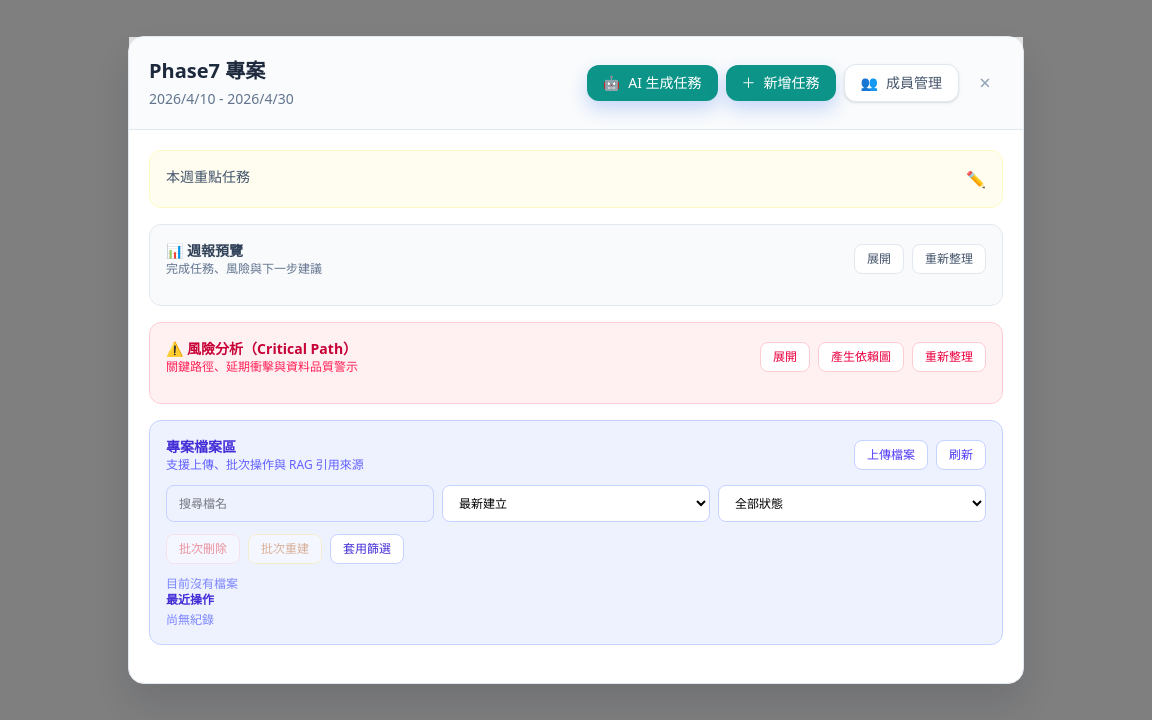
Scenario: TimelineDetailDialog Phase 7.1 › 顯示週報任務與風險列表
What coordinates should you click on to do the following:
click the button "展開" in the row of "完成任務、風險與下一步建議"
I would click on:
 (879, 259)
Its box is top-left (854, 244), bottom-right (904, 274).
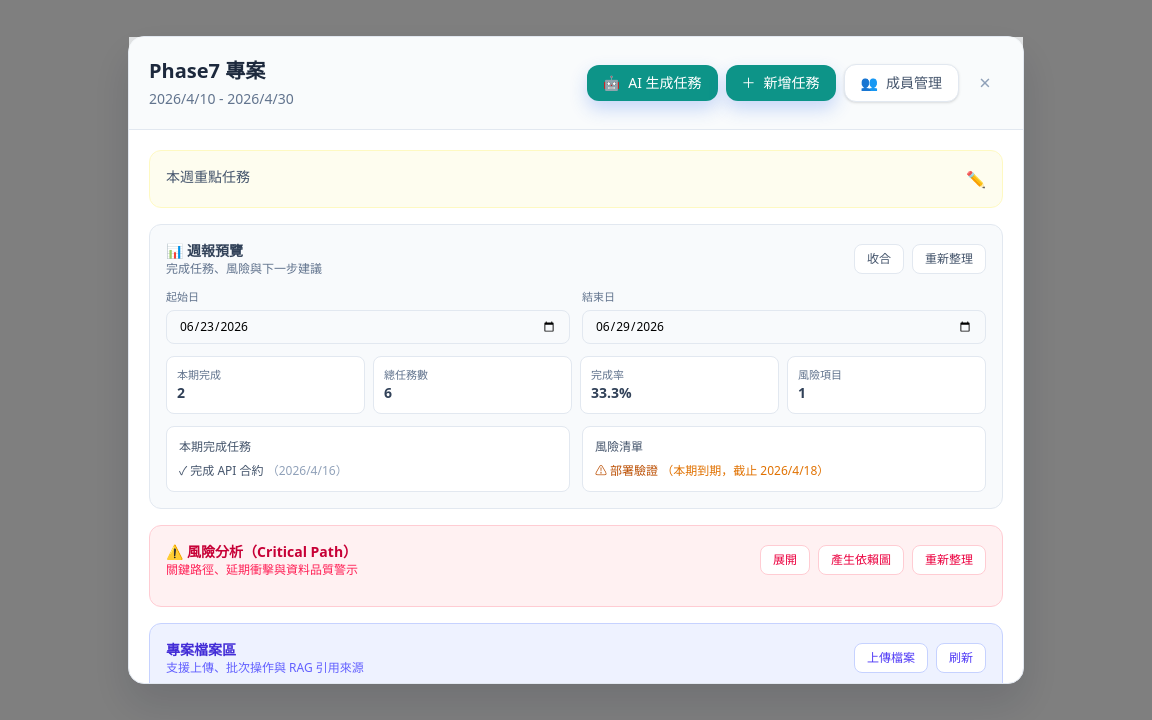
What coordinates should you click on to do the following:
click the button "展開"
I would click on:
 (785, 560)
Its box is top-left (760, 545), bottom-right (810, 575).
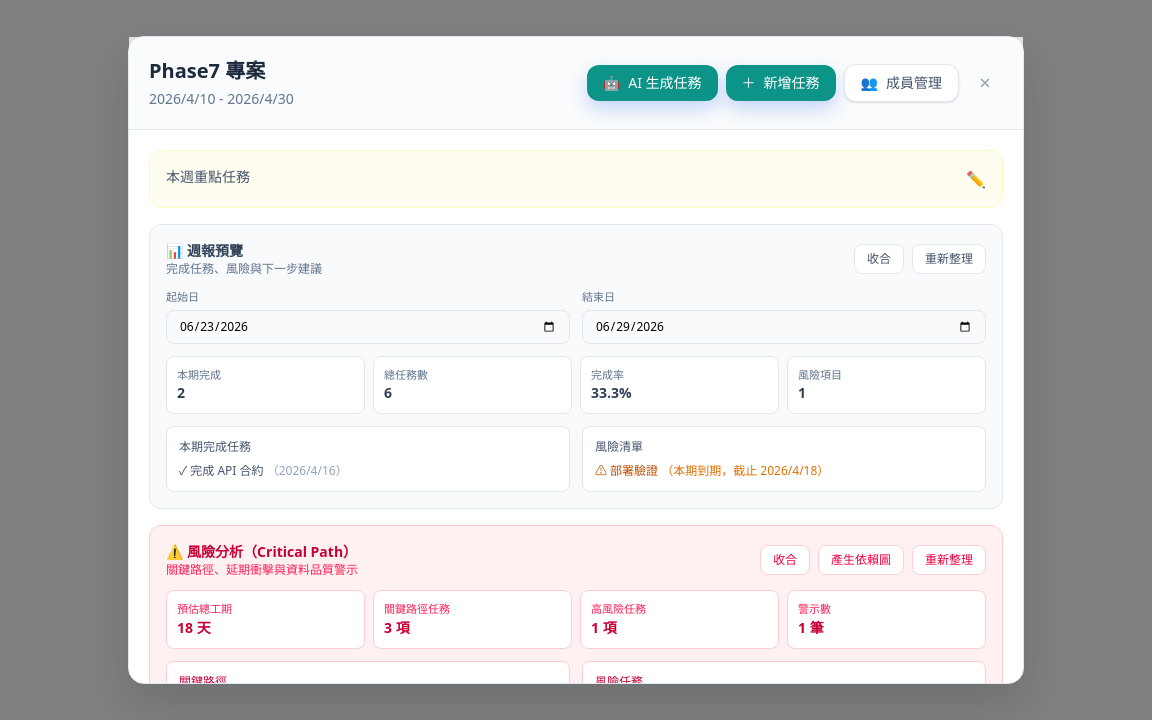
Expected: the text "完成 API 合約" is shown, top-left (179, 462), bottom-right (267, 479)
Expected: the text "部署驗證" is shown, top-left (595, 463), bottom-right (661, 479)
Expected: the text "高風險任務" is shown, top-left (591, 601), bottom-right (646, 616)
